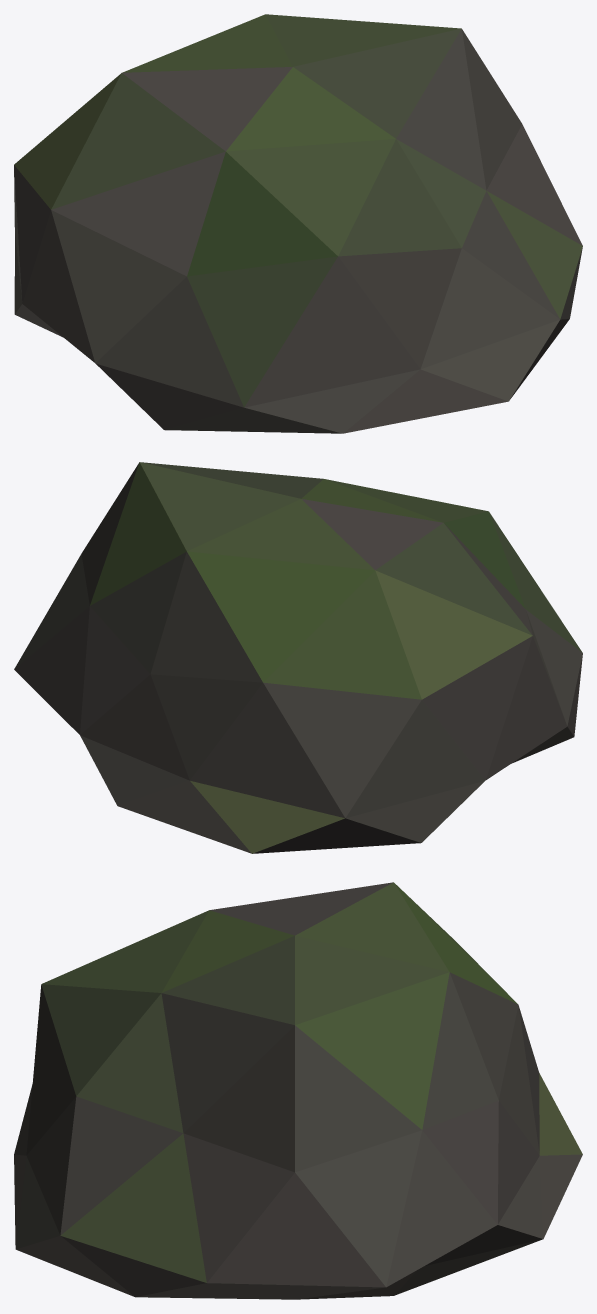
Rendered from env_basalt_b.glb.
3 views of the same model, one above another, from view 1: azimuth 30°, elevation 25°; view 2: azimuth 150°, elevation 25°; view 3: azimuth 270°, elevation 25° (orthographic). The views are drawn at different scales.
Parts seen in each view (by area): view 1: env_basalt_b; view 2: env_basalt_b; view 3: env_basalt_b.
Boxes of the visible parts, x1,y1,x2,y2 form: env_basalt_b: (14, 14, 582, 433); env_basalt_b: (14, 462, 582, 853); env_basalt_b: (14, 882, 582, 1299).
Size of the model in its own units: 1.89 by 1.02 by 1.78.
